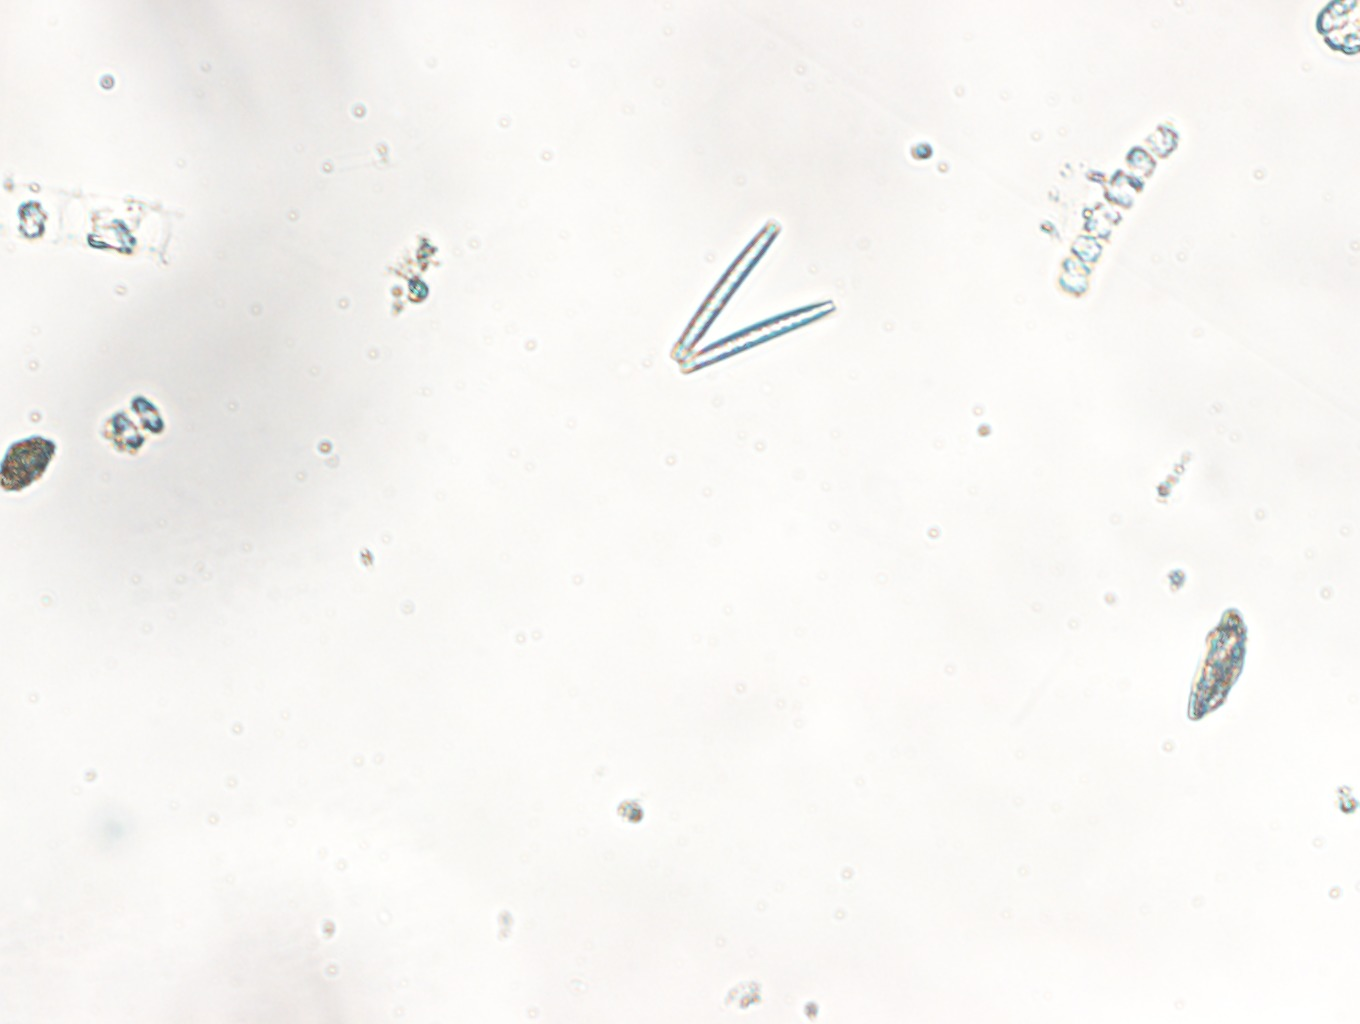skeletonema: (1063, 122, 1178, 302), (108, 395, 164, 450)
thalassionema nitzschioides: (670, 223, 836, 374)
